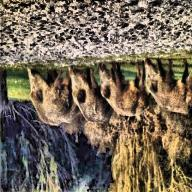boar: (63, 49, 110, 144), (98, 47, 152, 127), (21, 55, 75, 127), (143, 46, 192, 115)
